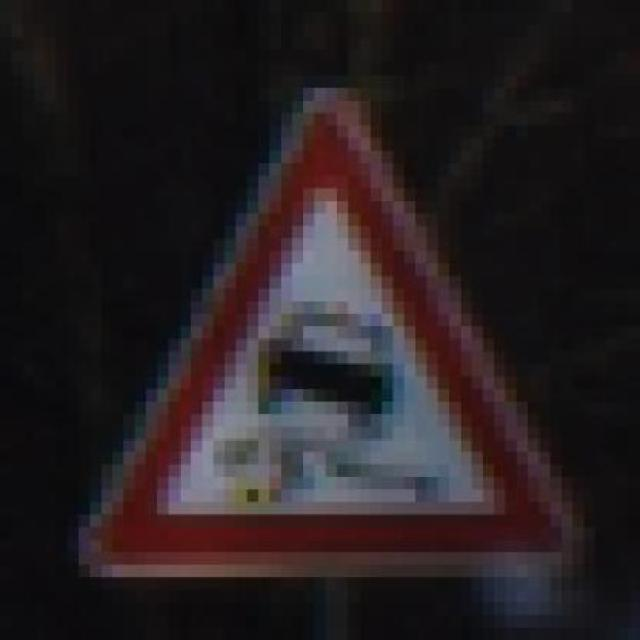Slippery Road Ahead: (78, 62, 584, 590)
